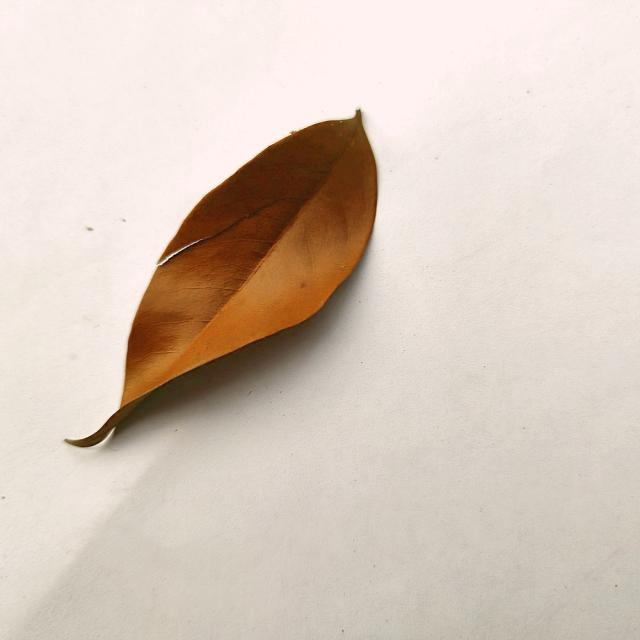Dry_Leaf-Lychee: (68, 111, 380, 450)
